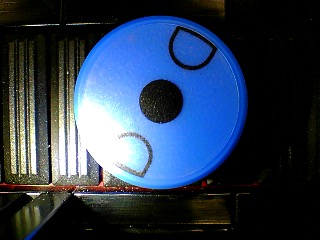BOHOMIPO2: (72, 16, 247, 190)
